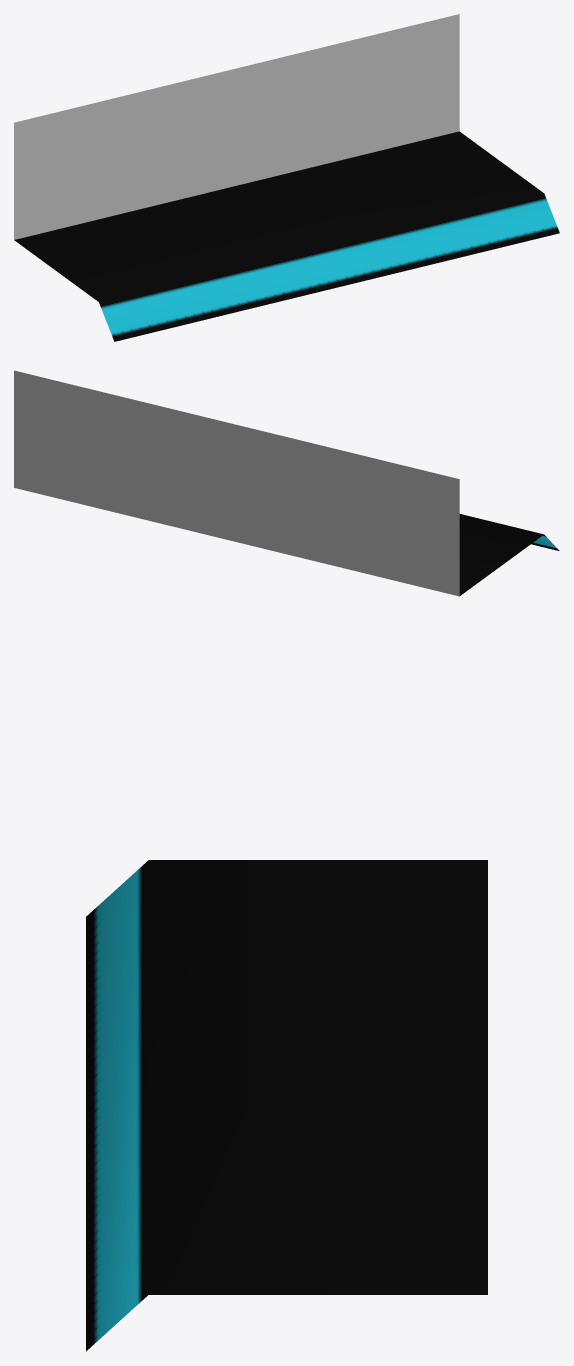
File: Top_Ceiling_Art.fbx
The picture shows the model from 3 angles, top to bottom: view 1: azimuth 30°, elevation 25°; view 2: azimuth 150°, elevation 25°; view 3: azimuth 270°, elevation 25°; orthographic projection. The views are drawn at different scales.
Visible parts, largest first — view 1: Top_Ceiling; view 2: Top_Ceiling; view 3: Top_Ceiling.
Boxes of the visible parts, left/top/right/bottom form: Top_Ceiling: left=14, top=14, right=559, bottom=341; Top_Ceiling: left=14, top=370, right=559, bottom=596; Top_Ceiling: left=86, top=860, right=487, bottom=1351.
Size of the model in its own units: 2.27 by 0.7106 by 0.888.
